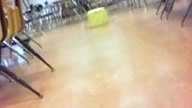cube: (87, 7, 108, 28)
